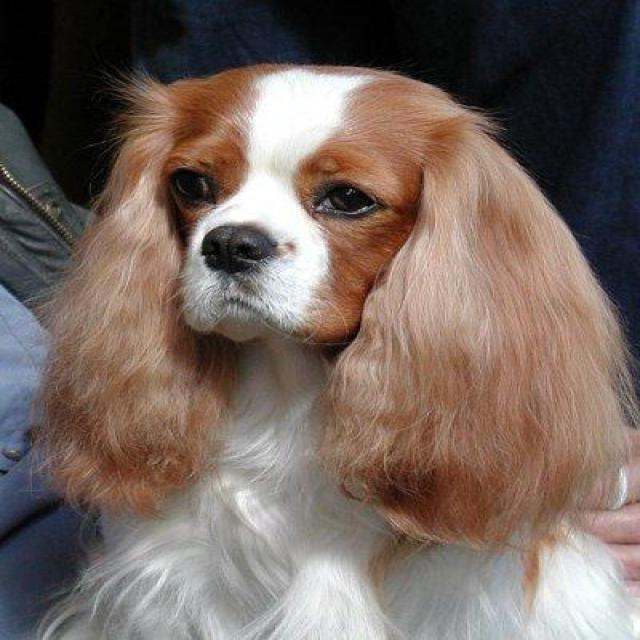blenheim_spaniel: (16, 55, 637, 636)
